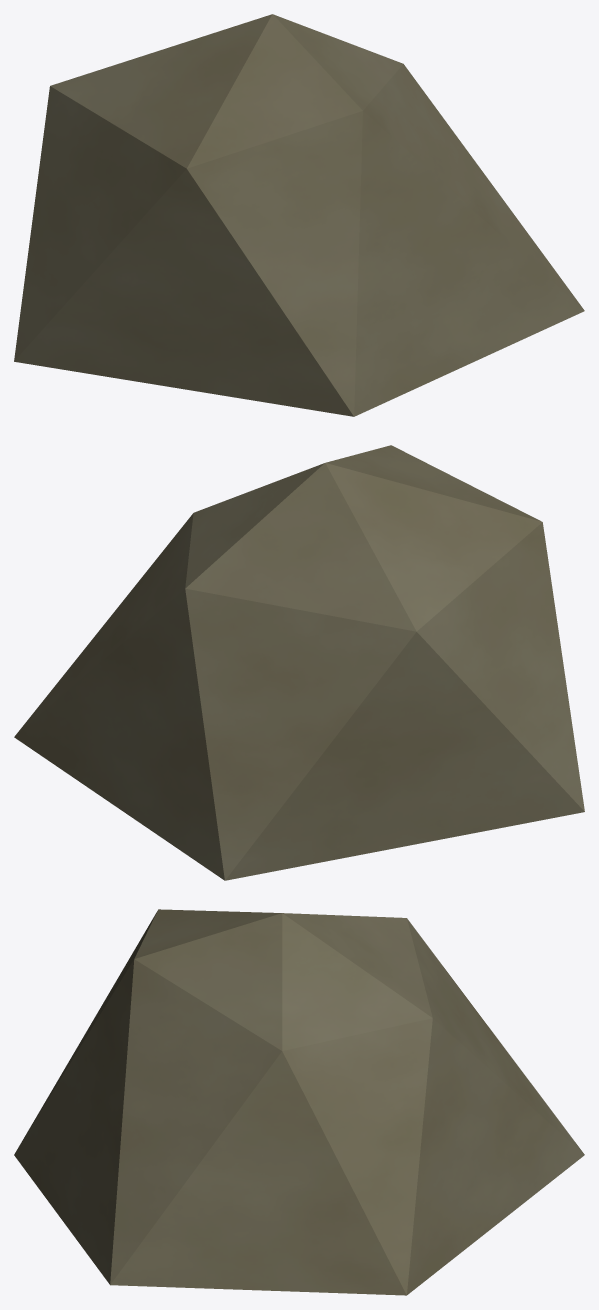
The model's file is rock.glb.
3 views of the same model, one above another, from view 1: azimuth 30°, elevation 25°; view 2: azimuth 150°, elevation 25°; view 3: azimuth 270°, elevation 25° (orthographic). The views are drawn at different scales.
Visible parts, largest first — view 1: Icosphere; view 2: Icosphere; view 3: Icosphere.
Part boxes in pixels (x1=…): Icosphere: x1=14, y1=14, x2=584, y2=416; Icosphere: x1=14, y1=445, x2=584, y2=880; Icosphere: x1=14, y1=909, x2=584, y2=1295.
Bounding box in the file's own units: 5.03 × 2.72 × 5.23.
Materials: 1 (1 with a texture image).
